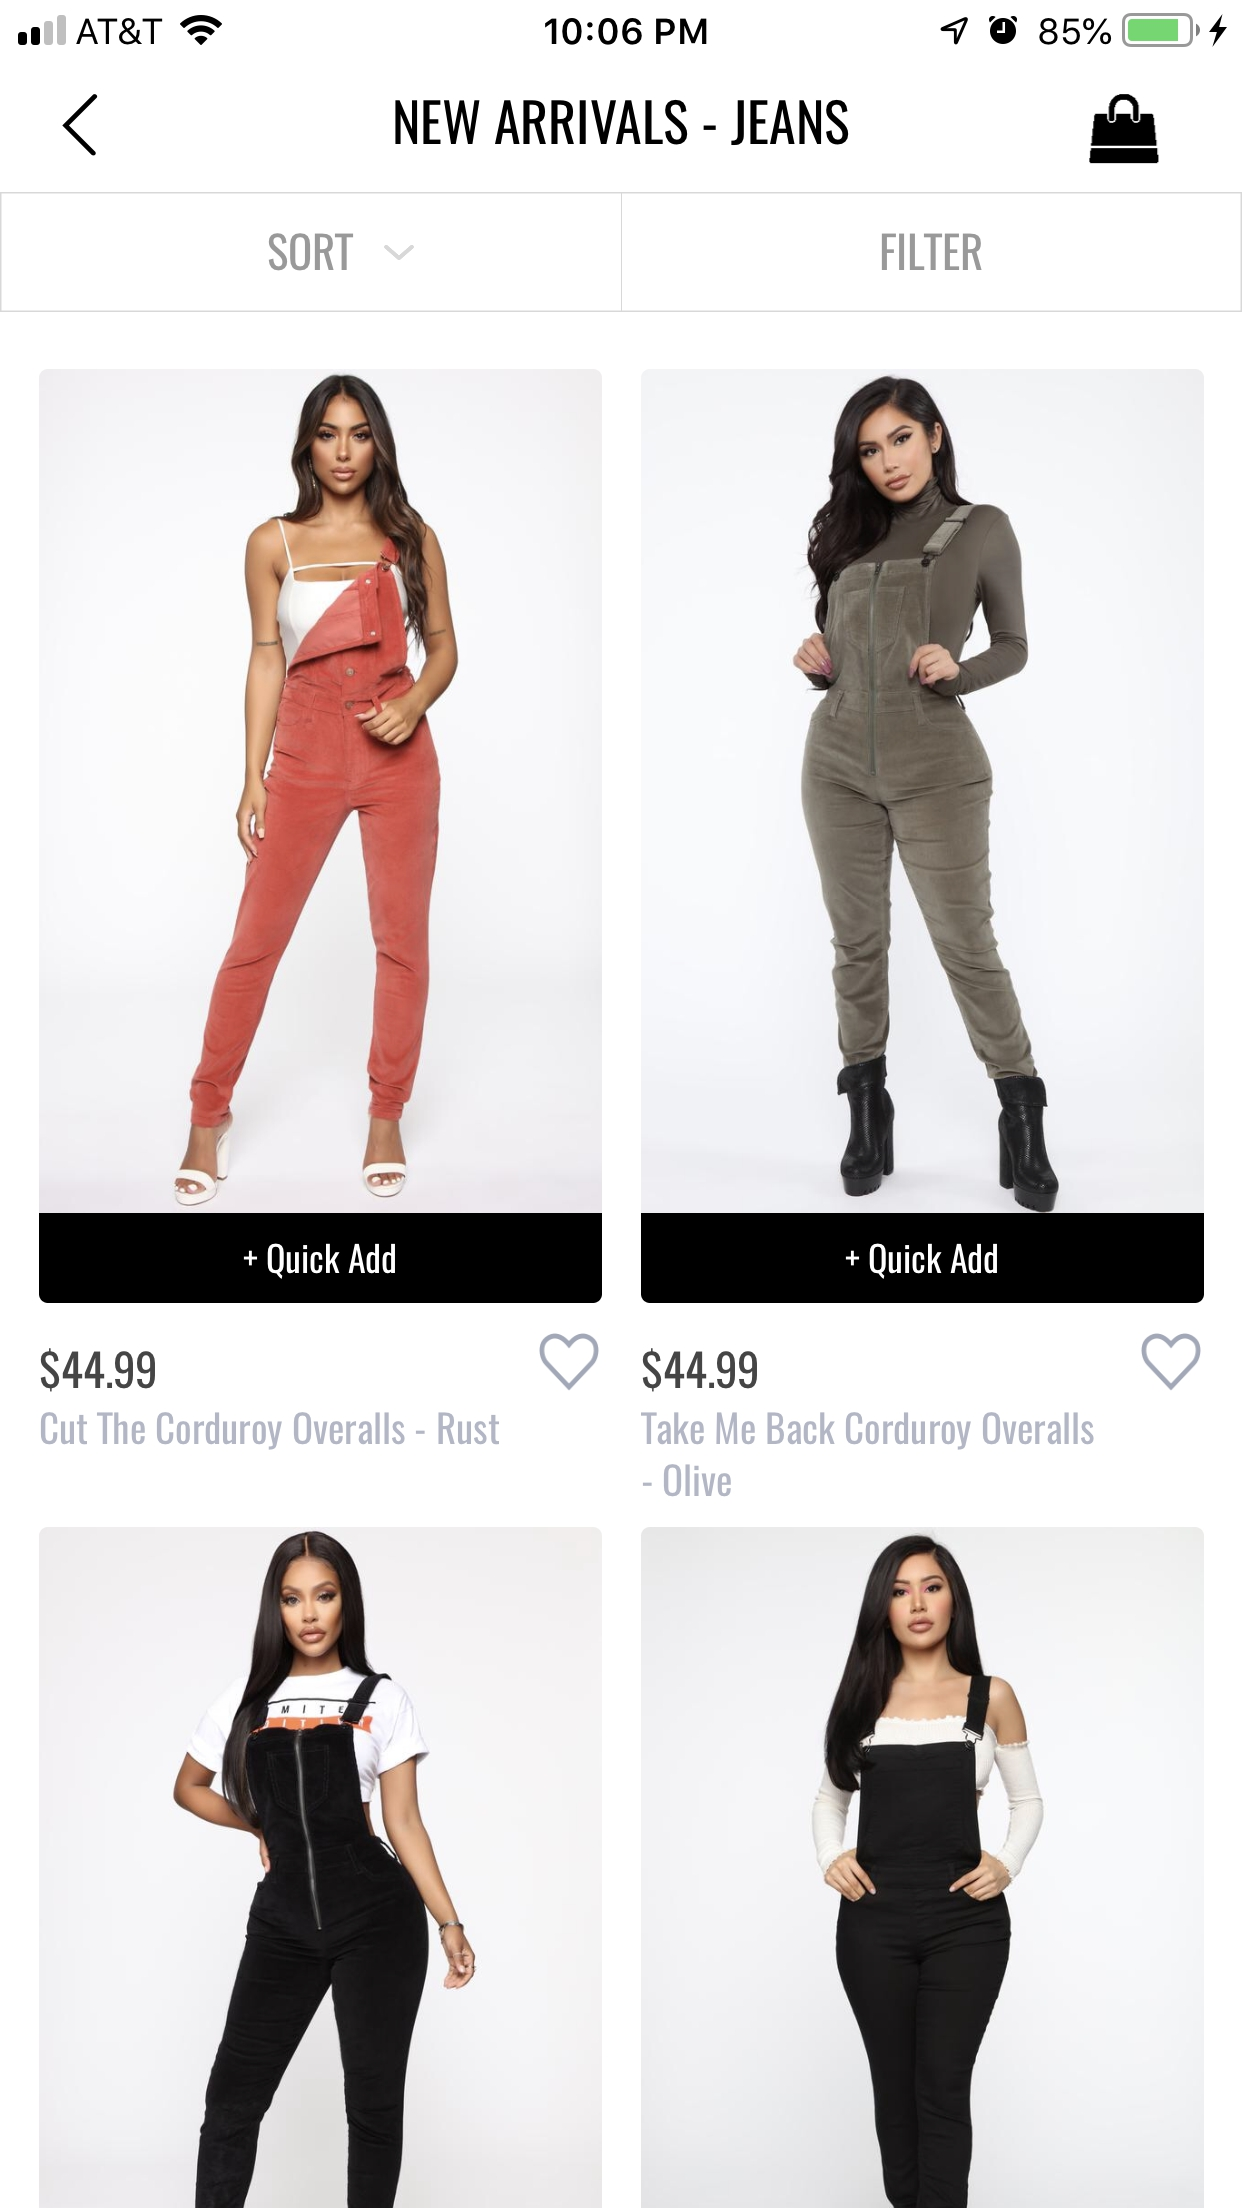Icon: (1087, 94, 1160, 165), (538, 1333, 601, 1392), (1142, 1331, 1203, 1391), (62, 94, 99, 158), (384, 246, 416, 262)
Image: (641, 369, 1206, 1213), (39, 369, 604, 1213), (39, 1527, 604, 2208), (641, 1527, 1206, 2208)
Text: (641, 1410, 1095, 1498), (394, 100, 849, 146), (41, 1410, 500, 1451), (641, 1347, 760, 1394), (41, 1348, 158, 1394)
TextButton: (622, 193, 1242, 314), (2, 193, 622, 312), (641, 1213, 1206, 1304), (39, 1213, 604, 1304)
UpperTaskBar: (2, 2, 1242, 49)
